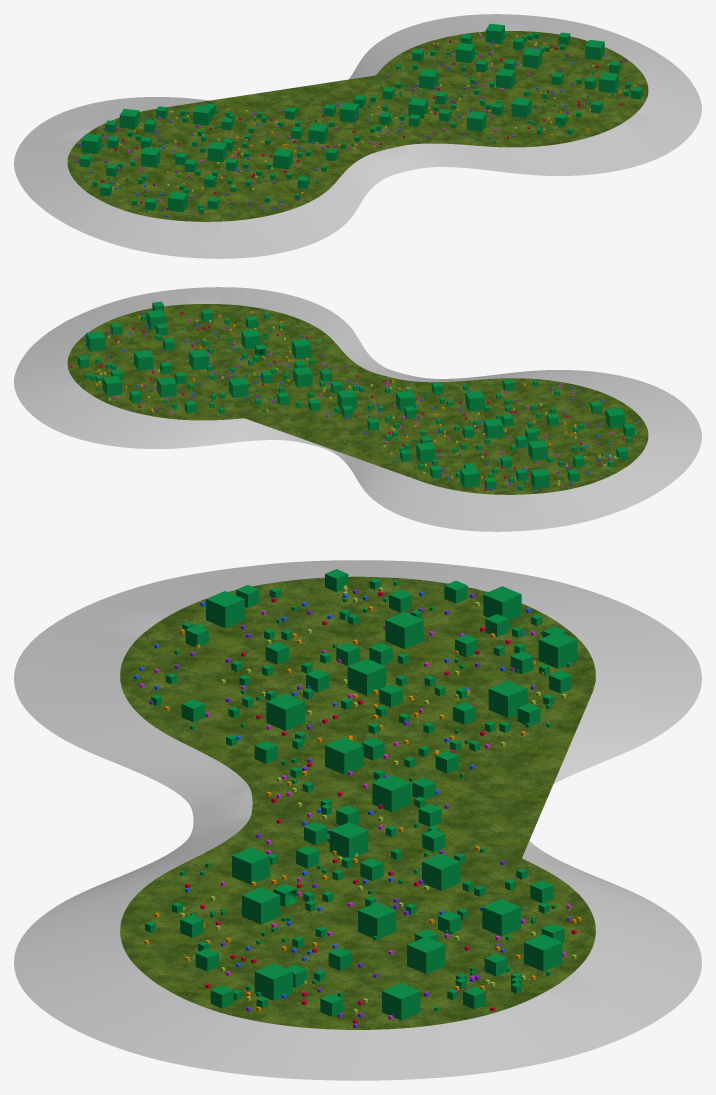
File: Lands.fbx
3 renders of one model, top to bottom at view 1: azimuth 30°, elevation 25°; view 2: azimuth 150°, elevation 25°; view 3: azimuth 270°, elevation 25°, orthographic. The views are drawn at different scales.
Visible parts, largest first — view 1: Plane.012, On.003, On.005; view 2: Plane.012, On.003, On.005; view 3: Plane.012, On.003, On.005.
Part boxes in pixels (box(x1,y1,x2,y2)): Plane.012: box(14, 14, 701, 258); On.003: box(79, 23, 642, 213); On.005: box(74, 32, 635, 217); Plane.012: box(14, 287, 701, 531); On.003: box(77, 301, 639, 490); On.005: box(70, 311, 640, 491); Plane.012: box(14, 560, 701, 1080); On.003: box(145, 569, 577, 1020); On.005: box(134, 585, 581, 1028).
Bounding box in the file's own units: 62858 × 2175 × 35104.
